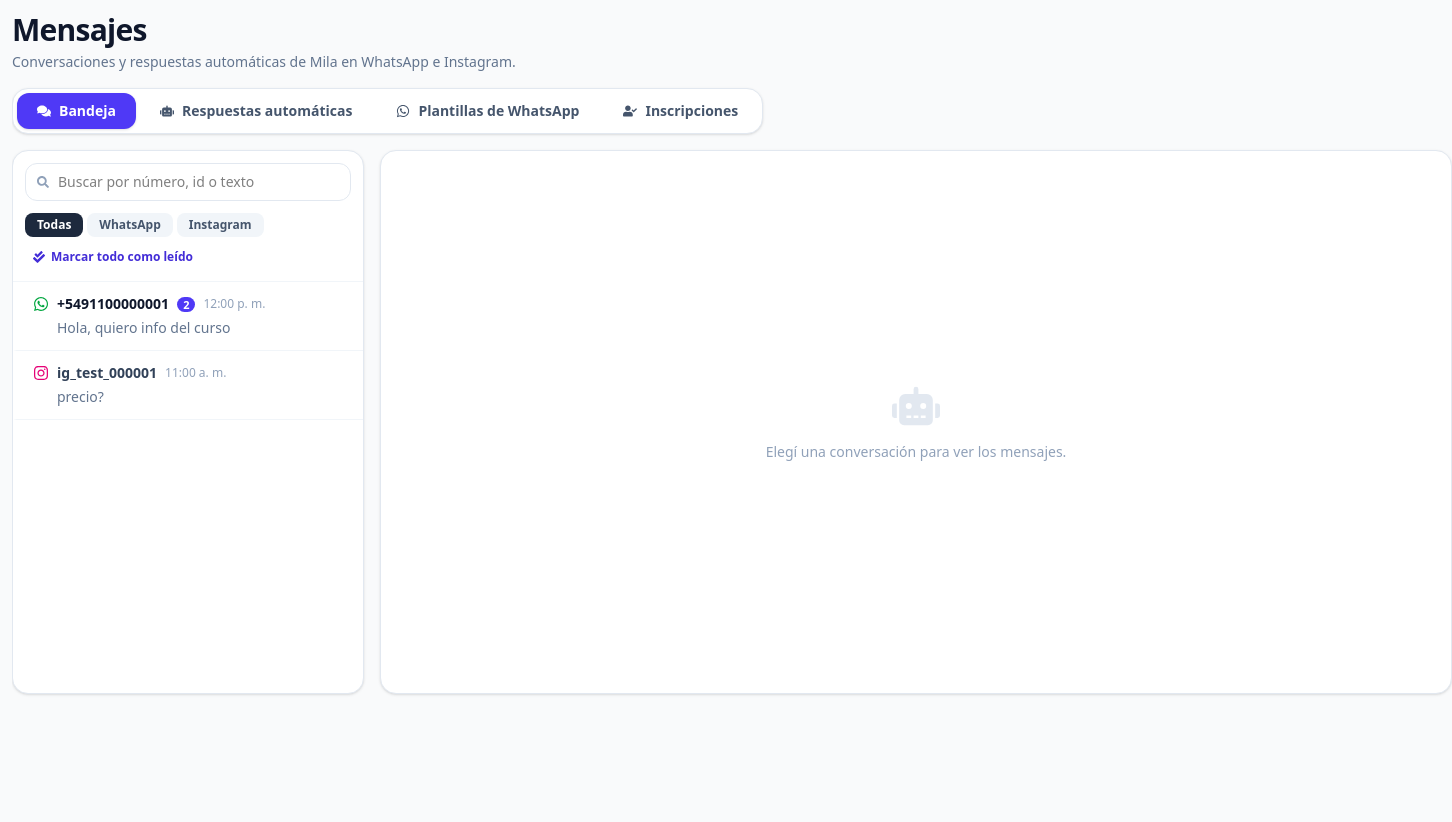
Test: BotMessagePage › drafts and stale actions › keeps a separate draft per conversation, so text never moves to another person
Later steps or results of the test are not shown.
Click the button "+5491100000001 2 12:00 p. m. Hola, quiero info del curso".
click(188, 316)  # box [13,282,363,351]
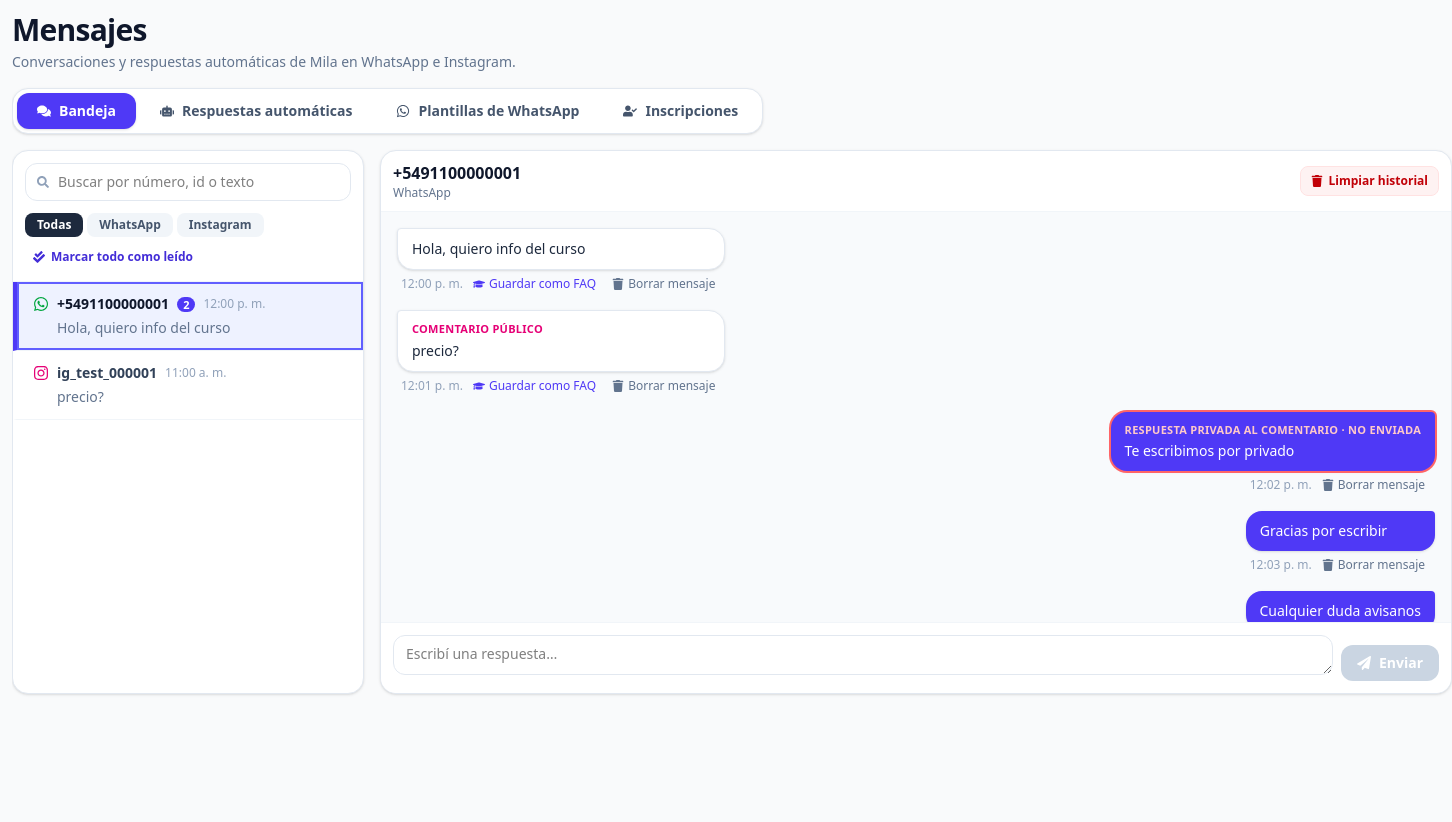
Expected: the text "Te escribimos por privado" is shown, [1125,441,1294,460]
Type "para whatsapp" into the text box named "Respuesta manual".
click(863, 655); type("para whatsapp")  # box [393,635,1333,675]
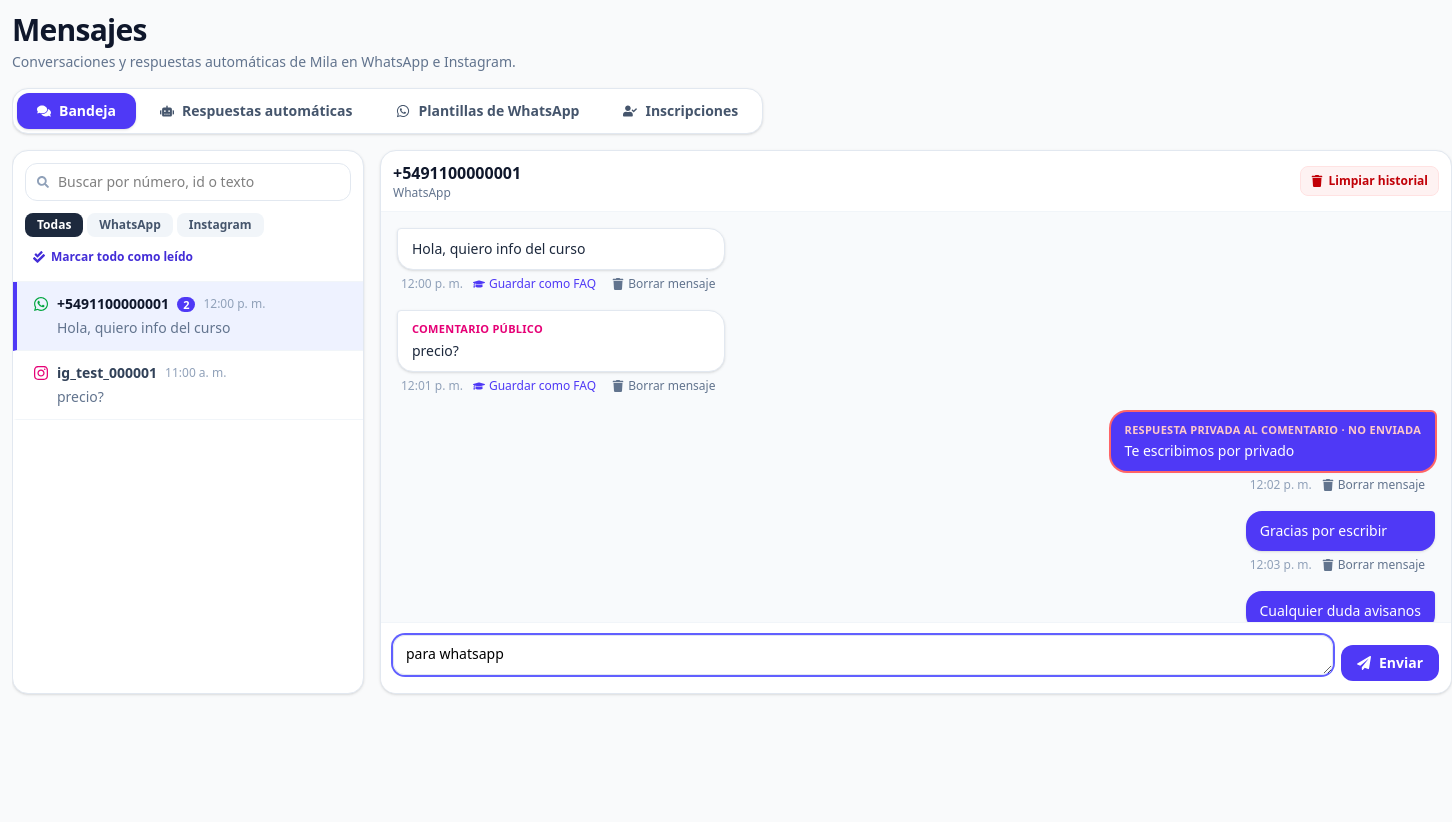
Click the button "ig_test_000001 11:00 a. m. precio?".
click(107, 372)  # box [13,351,363,420]
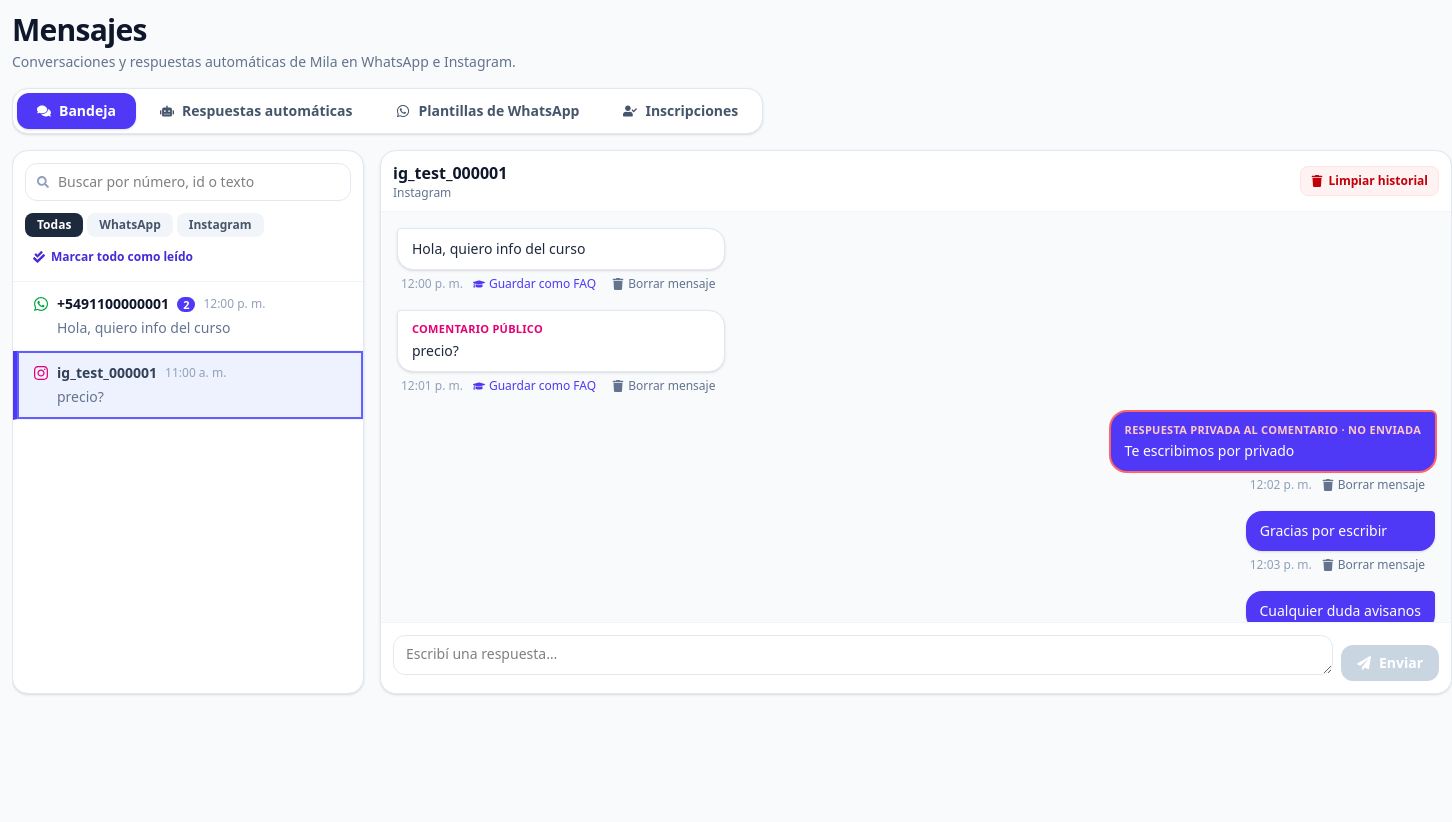
Expected: the text box named "Respuesta manual" is empty, [393,635,1333,675]
